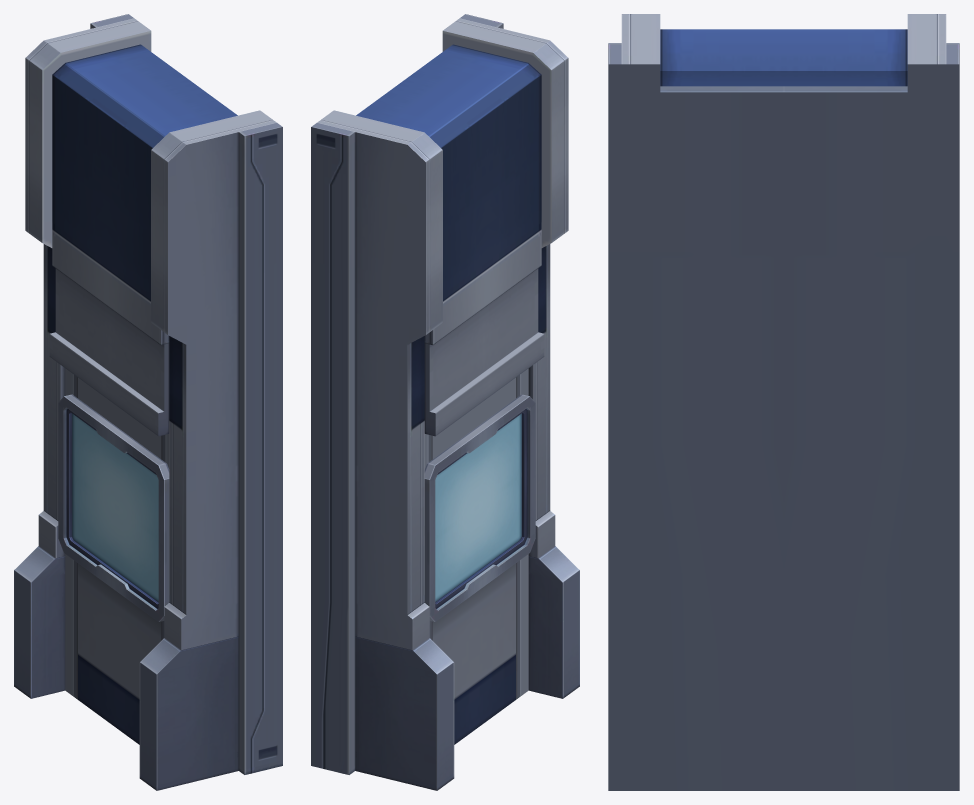
Rendered from my_carrier_01_wallcc_04.glb.
3 renders of one model, left to right at view 1: azimuth 30°, elevation 25°; view 2: azimuth 150°, elevation 25°; view 3: azimuth 270°, elevation 25°, orthographic. The views are drawn at different scales.
Visible parts, largest first — view 1: my_carrier_01_wallcc_04; view 2: my_carrier_01_wallcc_04; view 3: my_carrier_01_wallcc_04.
Boxes of the visible parts, x1=… form: my_carrier_01_wallcc_04: x1=14, y1=14, x2=282, y2=790; my_carrier_01_wallcc_04: x1=311, y1=14, x2=579, y2=790; my_carrier_01_wallcc_04: x1=608, y1=14, x2=959, y2=790.
Size of the model in its own units: 0.00534 by 0.0271 by 0.0119.
1 material, 1 textured.
